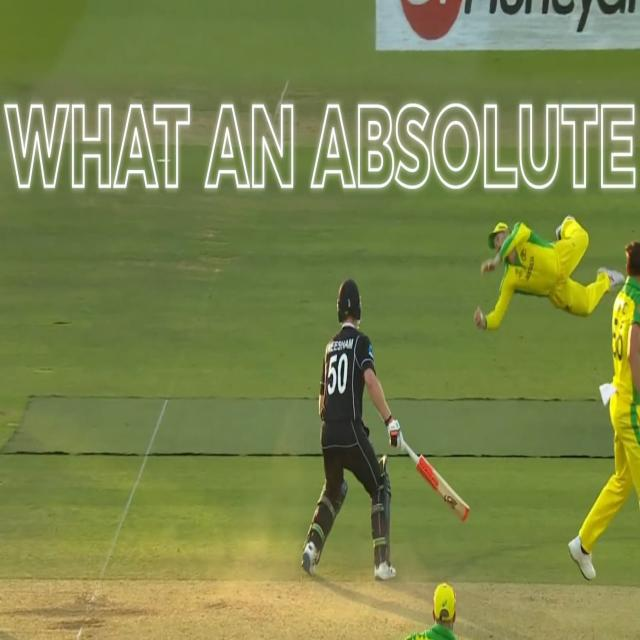ball: (472, 301, 488, 329)
